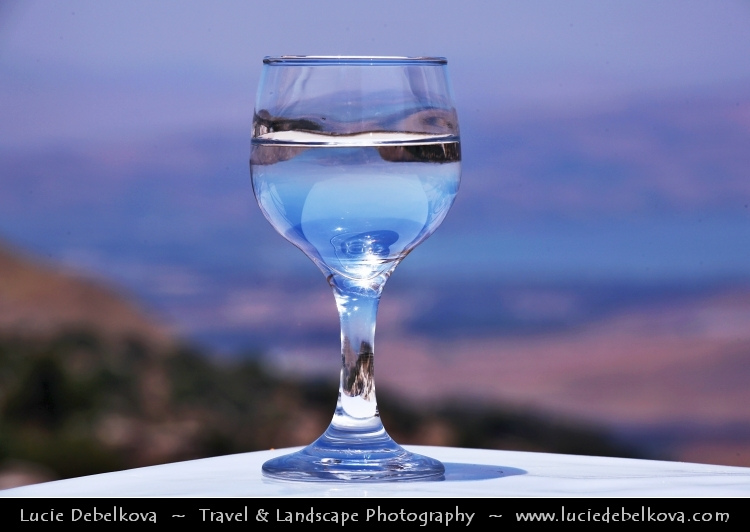glass of water: (263, 62, 435, 482)
